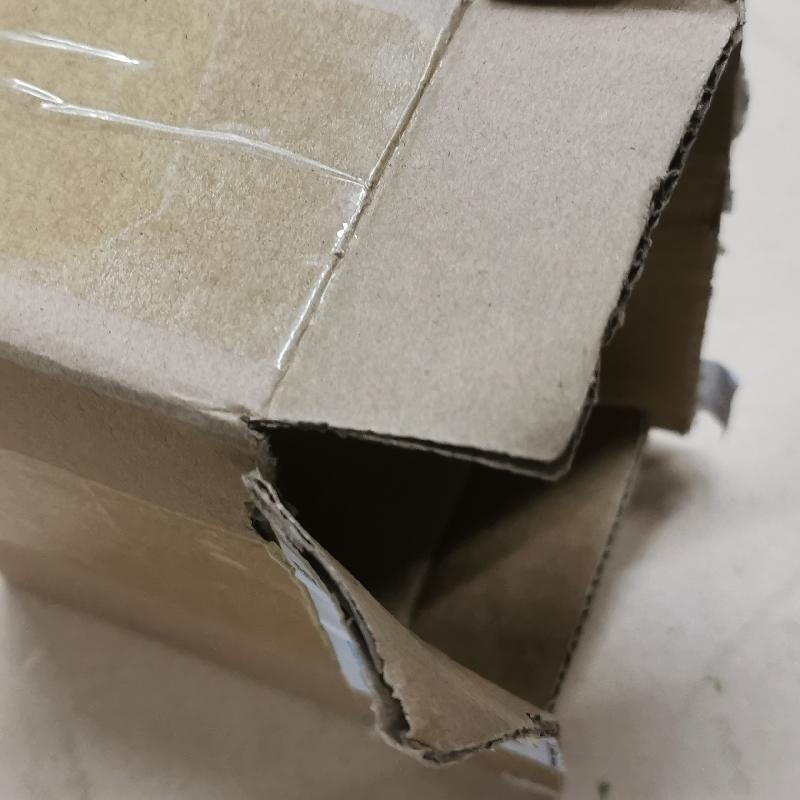boxes: (2, 3, 738, 799)
